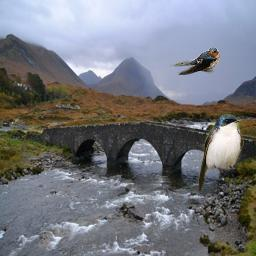Swallow: (198, 111, 244, 192), (170, 47, 220, 75)
